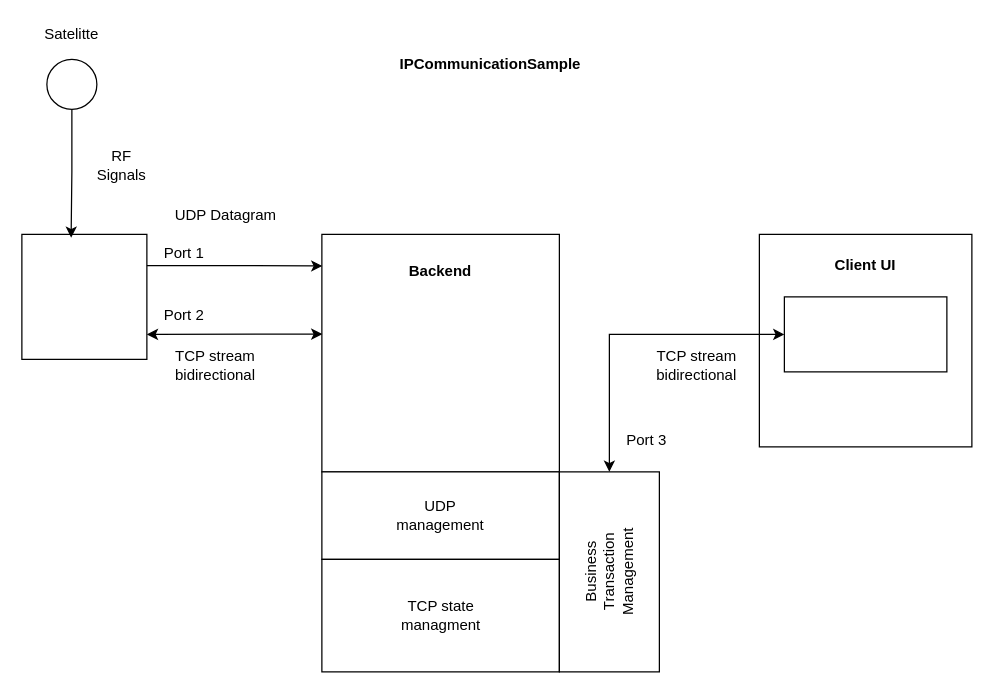
The diagram is 994 pixels wide and 694 high, and some of its shapes have lost their labels. The box of each missing label's shape, as (x1, y1, x2, y2) in pixels:
Business Transactions Managment: (783, 296, 947, 372)
Receiver: (21, 233, 147, 359)
